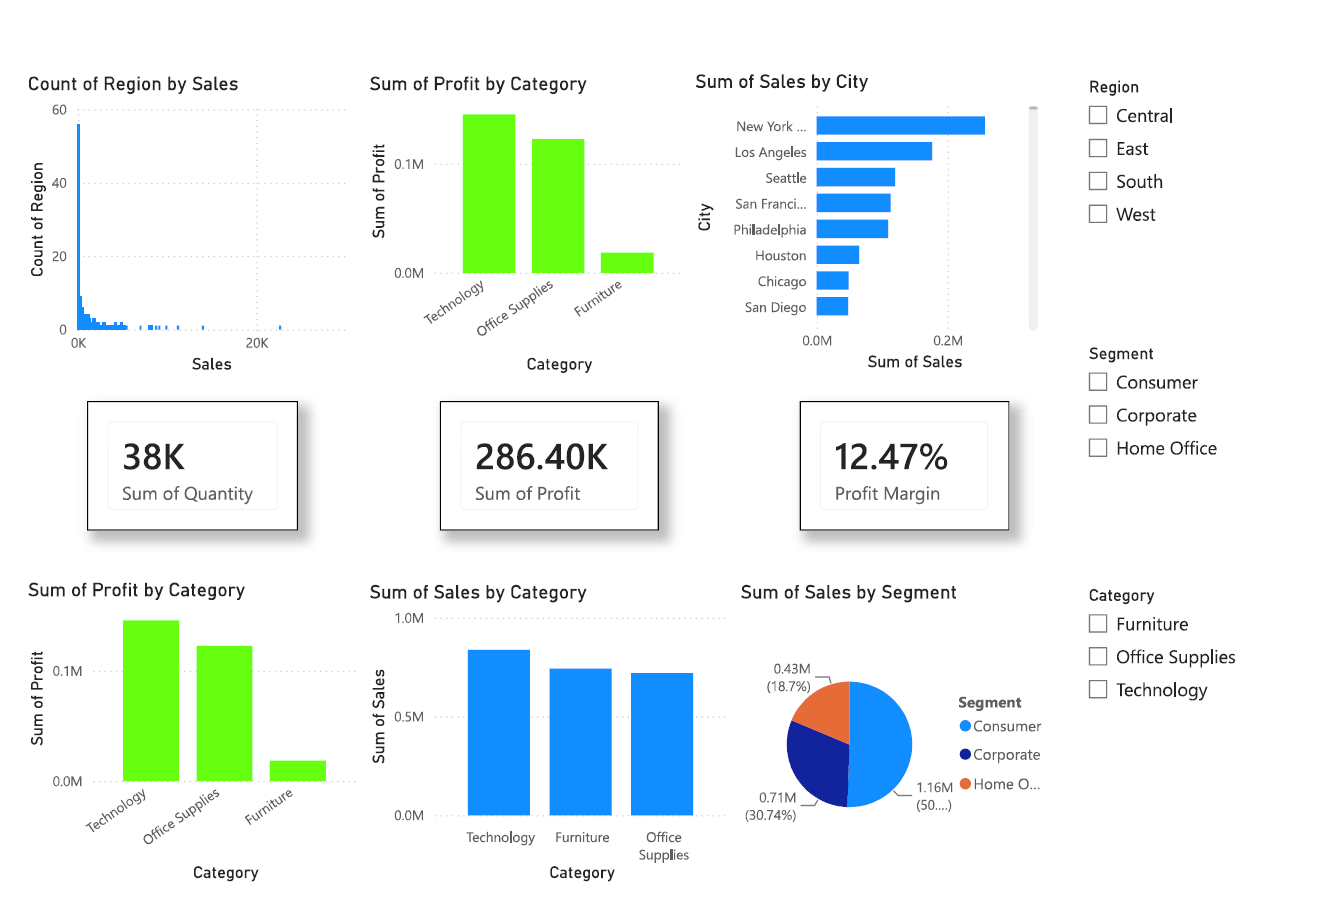

The page's visual inventory and layout, read from the dashboard file:
{"tool":"powerbi","page":{"name":"Page 1","canvas":[1280,720],"ordinal":0},"visuals":[{"type":"cardVisual","fields":{"Data":["Sum(SampleSuperstore.Profit)"]},"box":[367.7,292.2,193.1,114.2],"z":0},{"type":"cardVisual","fields":{"Data":["Sum(SampleSuperstore.Quantity)"]},"box":[57.1,292.2,186.4,114.2],"z":1000},{"type":"cardVisual","fields":{"Data":["SampleSuperstore.Profit Margin"]},"box":[685.1,292.2,184.7,114.2],"z":2000},{"type":"clusteredColumnChart","fields":{"Category":["SampleSuperstore.Sales"],"Y":["CountNonNull(SampleSuperstore.Region)"]},"box":[0,1.7,300.6,270.4],"z":3000},{"type":"clusteredColumnChart","fields":{"Category":["SampleSuperstore.Category"],"Y":["Sum(SampleSuperstore.Sales)"]},"box":[300.6,450,327.4,270.4],"z":4000},{"type":"pieChart","fields":{"Category":["SampleSuperstore.Segment"],"Y":["Sum(SampleSuperstore.Sales)"]},"box":[628,450,285.5,270.4],"z":5000},{"type":"clusteredColumnChart","fields":{"Category":["SampleSuperstore.Category"],"Y":["Sum(SampleSuperstore.Profit)"]},"box":[300.6,1.7,287.1,270.4],"z":6000},{"type":"clusteredColumnChart","fields":{"Category":["SampleSuperstore.Category"],"Y":["Sum(SampleSuperstore.Profit)"]},"box":[0,448.3,300.6,272],"z":7000},{"type":"clusteredBarChart","fields":{"Category":["SampleSuperstore.City"],"Y":["Sum(SampleSuperstore.Sales)"]},"box":[587.7,0,312.3,272],"z":8000},{"type":"slicer","fields":{"Values":["SampleSuperstore.Region"]},"box":[926.9,1.7,352.6,235.1],"z":9000},{"type":"slicer","fields":{"Values":["SampleSuperstore.Category"]},"box":[926.9,450,352.6,270.4],"z":10000},{"type":"slicer","fields":{"Values":["SampleSuperstore.Segment"]},"box":[926.9,236.8,352.6,213.3],"z":11000}]}

Visuals, with their boxes on the page's 1280x720 design canvas (x1, y1, x2, y2). These are canvas units, not pixel positions in the 1331x921 screenshot, which may show the page scaled, cropped or inside an application window:
cardVisual - Sum(SampleSuperstore.Profit): select_region(368, 292, 561, 406)
cardVisual - Sum(SampleSuperstore.Quantity): select_region(57, 292, 244, 406)
cardVisual - SampleSuperstore.Profit Margin: select_region(685, 292, 870, 406)
clusteredColumnChart - SampleSuperstore.Sales x CountNonNull(SampleSuperstore.Region): select_region(0, 2, 301, 272)
clusteredColumnChart - SampleSuperstore.Category x Sum(SampleSuperstore.Sales): select_region(301, 450, 628, 720)
pieChart - SampleSuperstore.Segment x Sum(SampleSuperstore.Sales): select_region(628, 450, 914, 720)
clusteredColumnChart - SampleSuperstore.Category x Sum(SampleSuperstore.Profit): select_region(301, 2, 588, 272)
clusteredColumnChart - SampleSuperstore.Category x Sum(SampleSuperstore.Profit): select_region(0, 448, 301, 720)
clusteredBarChart - SampleSuperstore.City x Sum(SampleSuperstore.Sales): select_region(588, 0, 900, 272)
slicer - SampleSuperstore.Region: select_region(927, 2, 1280, 237)
slicer - SampleSuperstore.Category: select_region(927, 450, 1280, 720)
slicer - SampleSuperstore.Segment: select_region(927, 237, 1280, 450)
